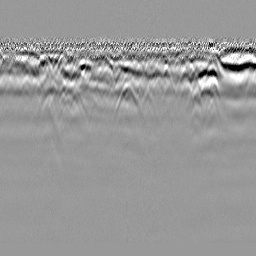cavity: (111, 79, 143, 122)
